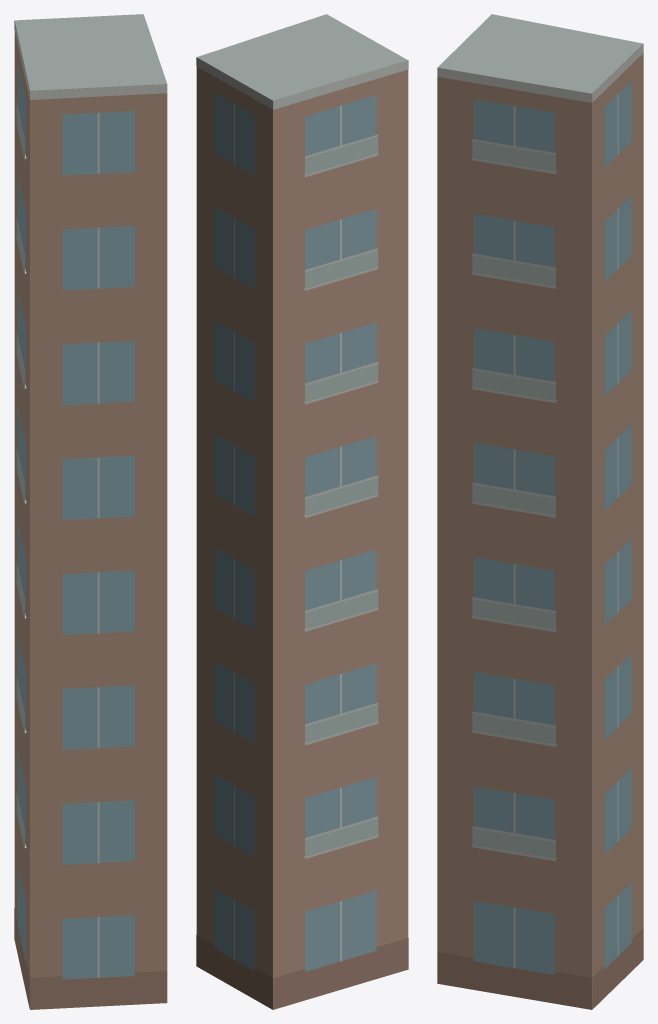
Rendered from survey-upis-32989895.glb.
The picture shows the model from 3 angles, left to right: view 1: azimuth 30°, elevation 25°; view 2: azimuth 150°, elevation 25°; view 3: azimuth 270°, elevation 25°; orthographic projection.
Visible parts, largest first — view 1: survey-upis-32989895.tmp; view 2: survey-upis-32989895.tmp; view 3: survey-upis-32989895.tmp.
Boxes of the visible parts, x1,y1,x2,y2 form: survey-upis-32989895.tmp: (14, 14, 167, 1009); survey-upis-32989895.tmp: (196, 14, 408, 1009); survey-upis-32989895.tmp: (437, 14, 643, 1009).
Bounding box in the file's own units: 4.56 × 24.4 × 4.99.
